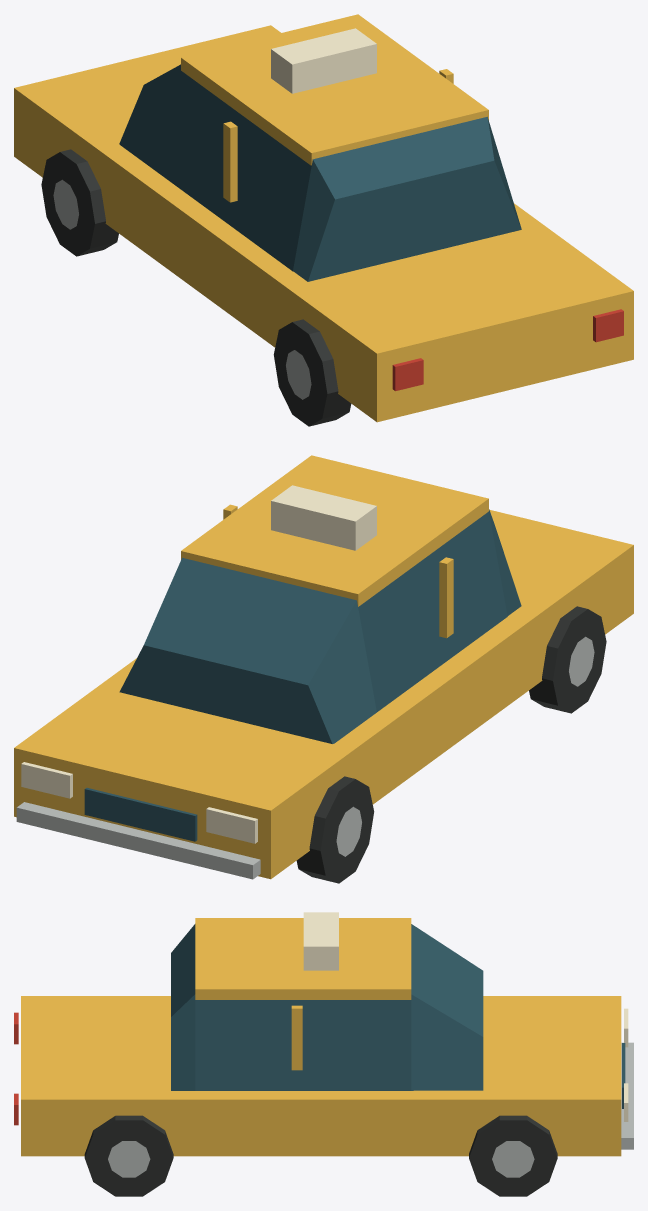
File: taxi.glb
The picture shows the model from 3 angles, top to bottom: view 1: azimuth 30°, elevation 25°; view 2: azimuth 150°, elevation 25°; view 3: azimuth 270°, elevation 25°; orthographic projection. The views are drawn at different scales.
Visible parts, largest first — view 1: TaxiModel traffic_gold, TaxiModel traffic_glass, TaxiModel traffic_rubber, TaxiModel traffic_light, TaxiModel traffic_metal, TaxiModel traffic_red; view 2: TaxiModel traffic_gold, TaxiModel traffic_glass, TaxiModel traffic_rubber, TaxiModel traffic_light, TaxiModel traffic_metal; view 3: TaxiModel traffic_gold, TaxiModel traffic_glass, TaxiModel traffic_rubber, TaxiModel traffic_metal, TaxiModel traffic_light.
Boxes of the visible parts, left/top/right/bottom form: TaxiModel traffic_gold: left=14, top=14, right=633, bottom=422; TaxiModel traffic_glass: left=119, top=64, right=521, bottom=281; TaxiModel traffic_rubber: left=41, top=149, right=351, bottom=426; TaxiModel traffic_light: left=271, top=28, right=376, bottom=93; TaxiModel traffic_metal: left=53, top=179, right=311, bottom=399; TaxiModel traffic_red: left=392, top=309, right=623, bottom=391; TaxiModel traffic_gold: left=14, top=455, right=633, bottom=879; TaxiModel traffic_glass: left=84, top=509, right=521, bottom=841; TaxiModel traffic_rubber: left=296, top=606, right=606, bottom=883; TaxiModel traffic_light: left=21, top=485, right=376, bottom=843; TaxiModel traffic_metal: left=16, top=636, right=594, bottom=879; TaxiModel traffic_gold: left=21, top=918, right=621, bottom=1156; TaxiModel traffic_glass: left=171, top=924, right=625, bottom=1108; TaxiModel traffic_rubber: left=84, top=1115, right=557, bottom=1196; TaxiModel traffic_metal: left=108, top=1042, right=633, bottom=1177; TaxiModel traffic_light: left=303, top=912, right=628, bottom=1121.
Size of the model in its own units: 2.07 by 1.78 by 4.75.
